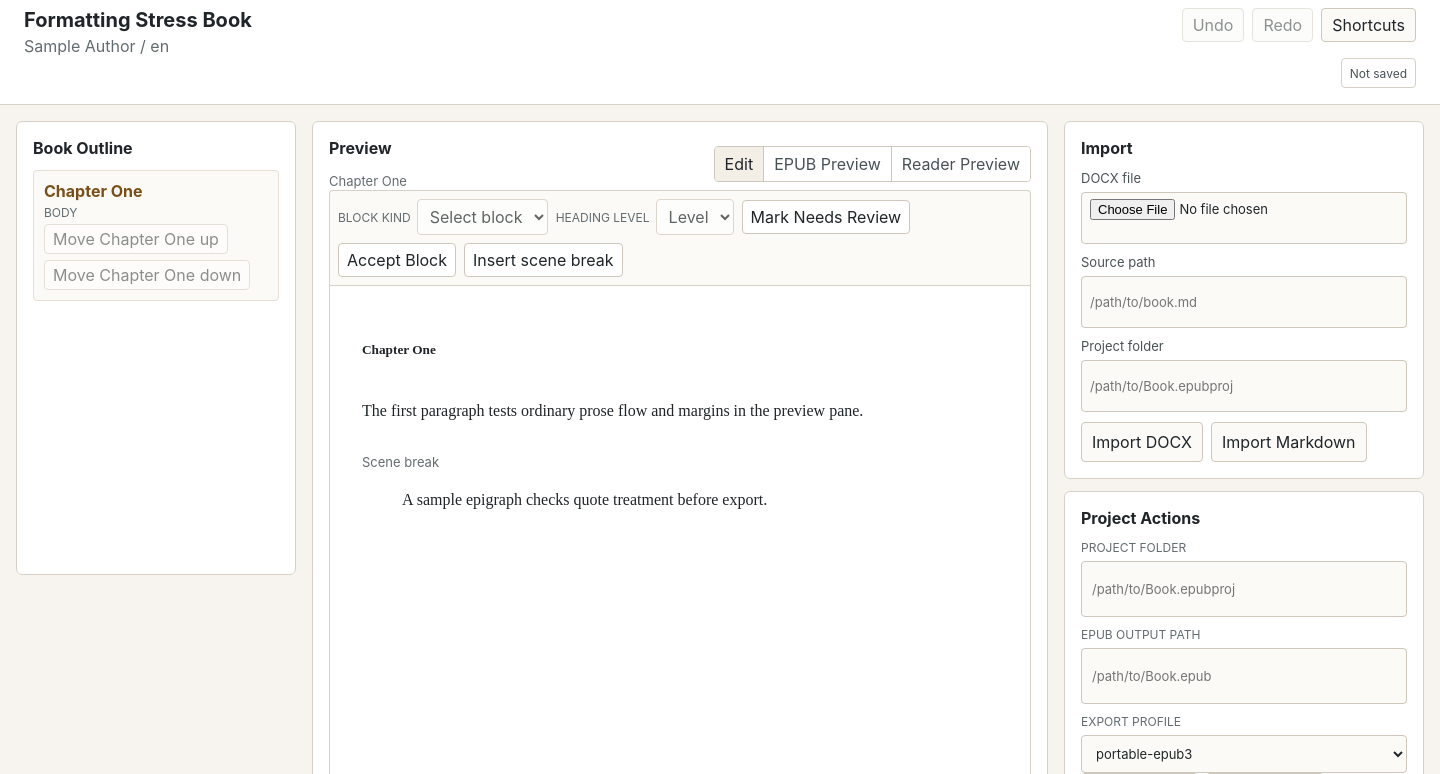
Test case: App › marks focused blocks for review and accepts them
The width and height of the screenshot is (1440, 774).
Focus the text box named "Preview block 1 (paragraph)" at (613, 410), box [362,402,863,419]
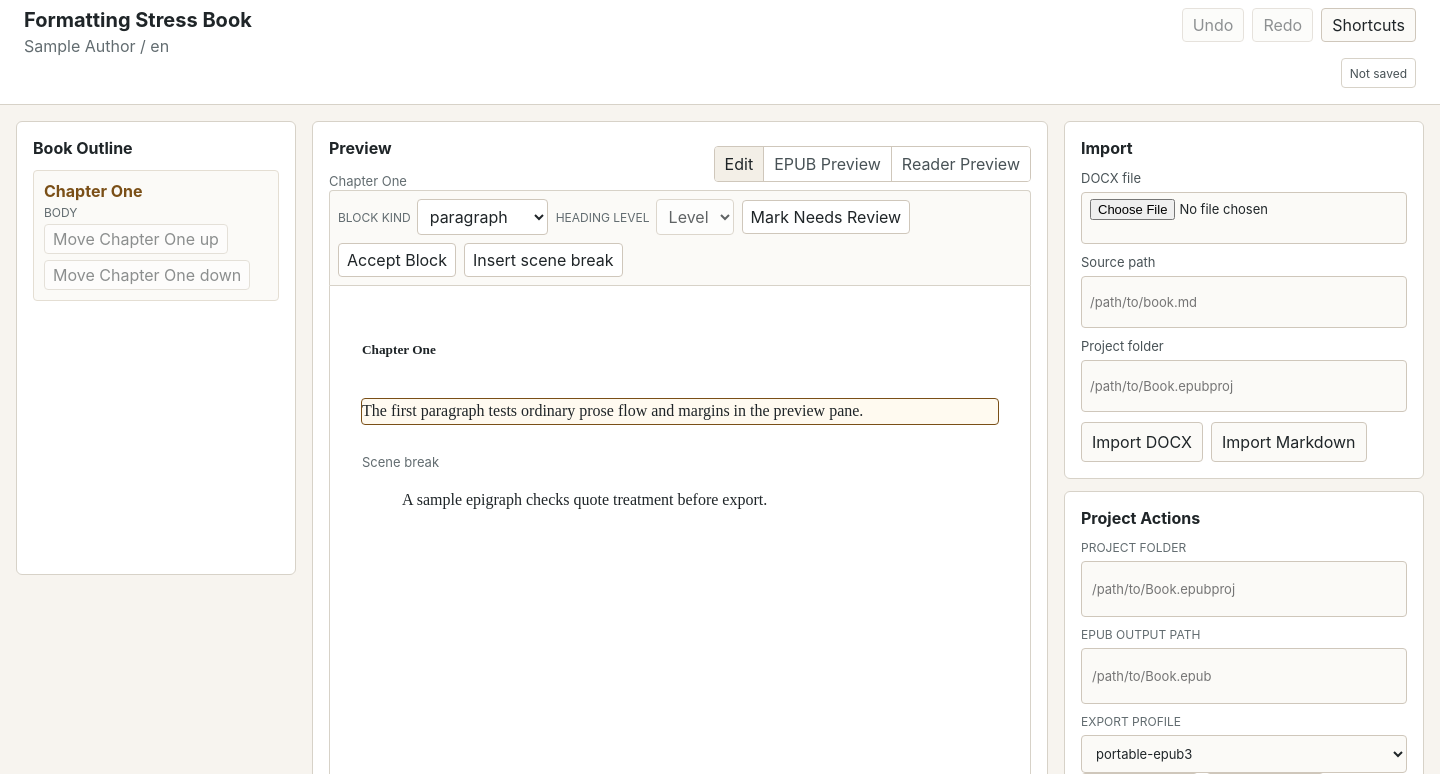
Click the button "Mark Needs Review" at (826, 217), box [742,200,910,234]
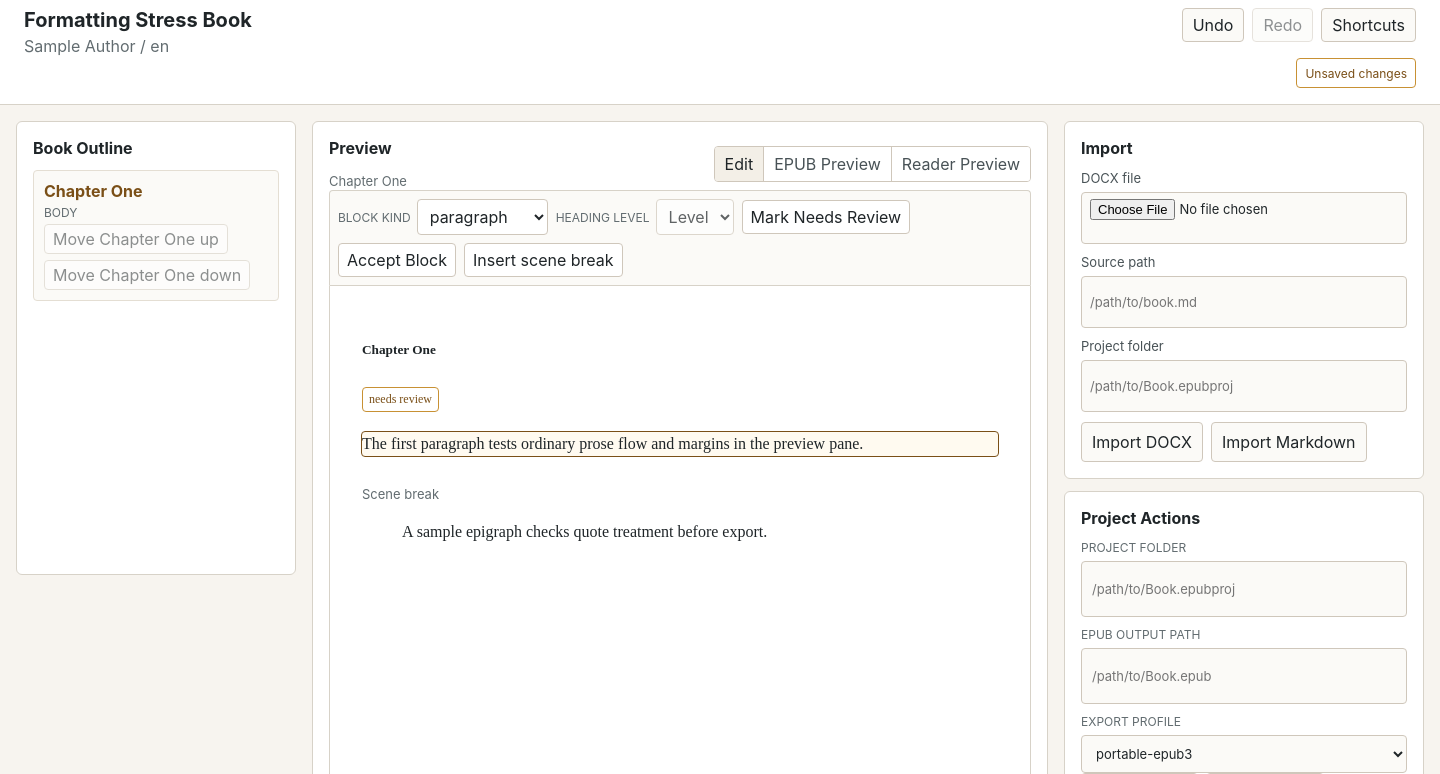
Now the text "needs review" is shown, box [362,387,439,412]
Click the button "Accept Block" at (397, 260), box [338,243,456,277]
(page scrolled)
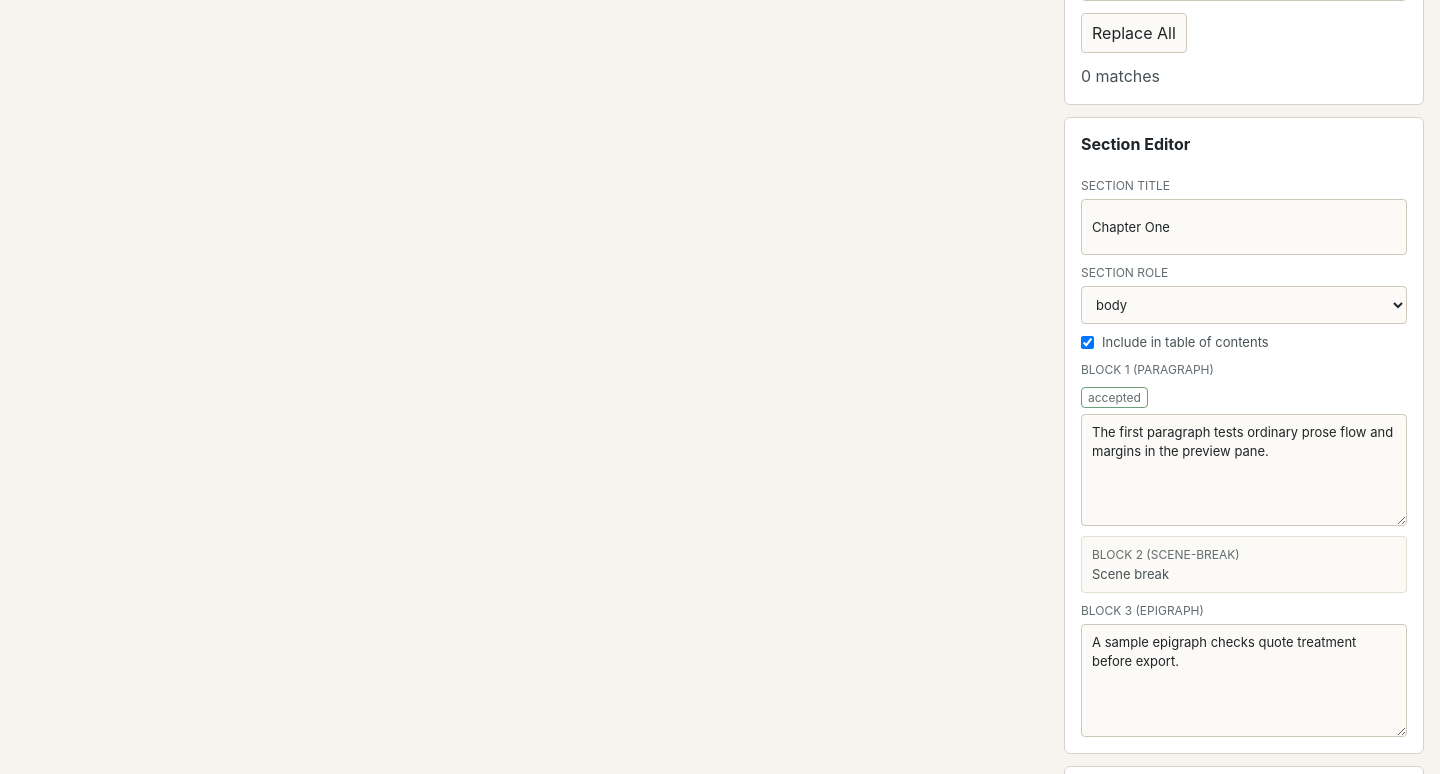
Now the text "accepted" is shown, box [1081,387,1148,408]
